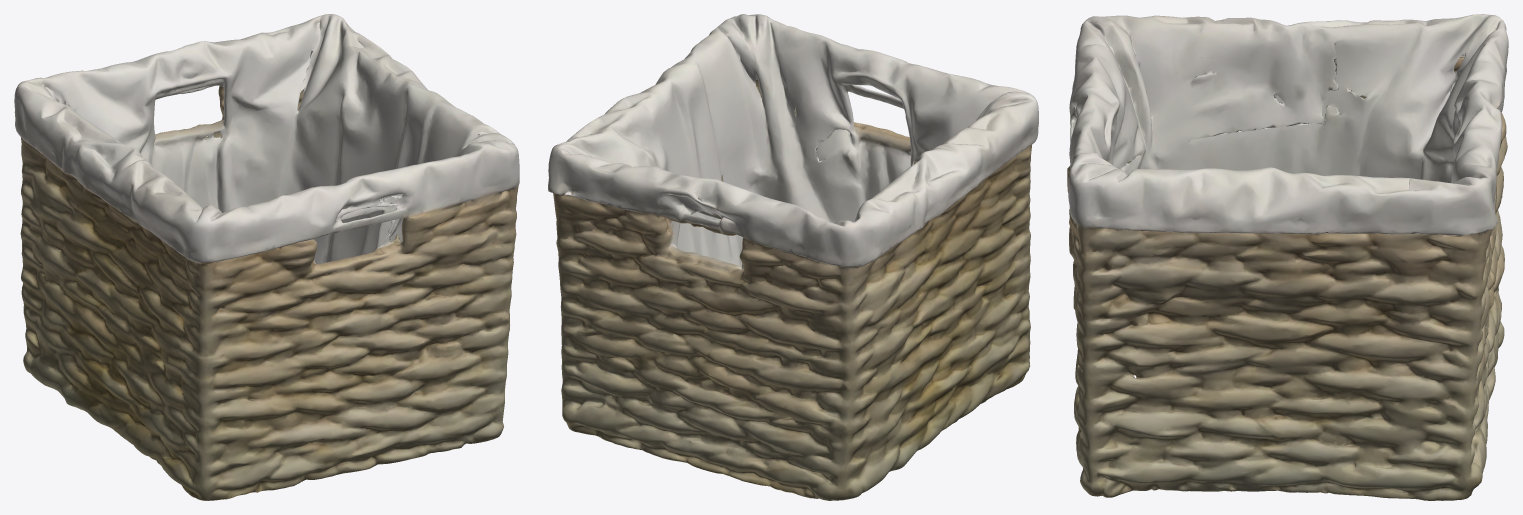
File: Target_Basket_Medium.glb
The picture shows the model from 3 angles, left to right: view 1: azimuth 30°, elevation 25°; view 2: azimuth 150°, elevation 25°; view 3: azimuth 270°, elevation 25°; orthographic projection. The views are drawn at different scales.
Parts seen in each view (by area): view 1: geometry_0; view 2: geometry_0; view 3: geometry_0.
Part boxes in pixels (box(x1,y1,x2,y2)): geometry_0: box(14, 14, 519, 500); geometry_0: box(548, 14, 1038, 500); geometry_0: box(1067, 14, 1508, 500).
Size of the model in its own units: 0.7874 by 0.6723 by 0.8123.
Materials: 1 (1 with a texture image).
